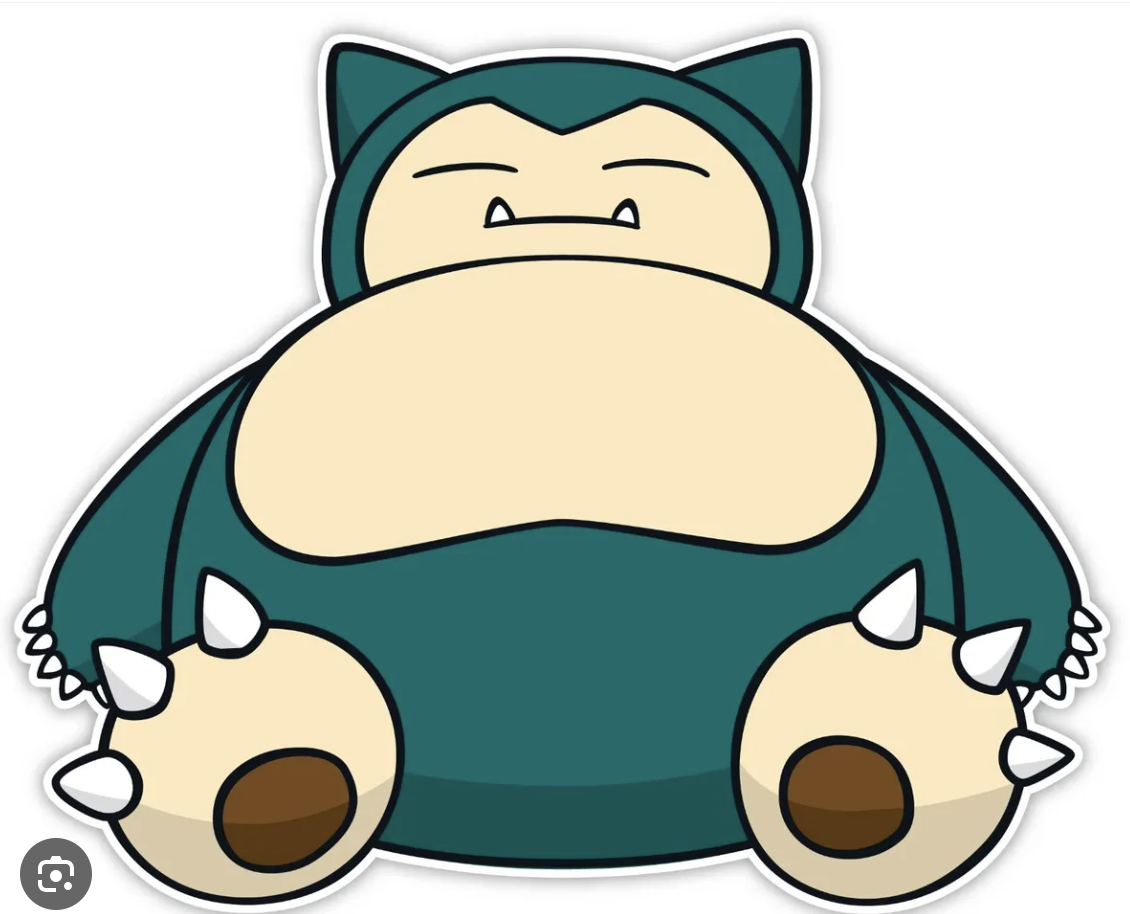Snorlax: (12, 14, 1119, 907)
